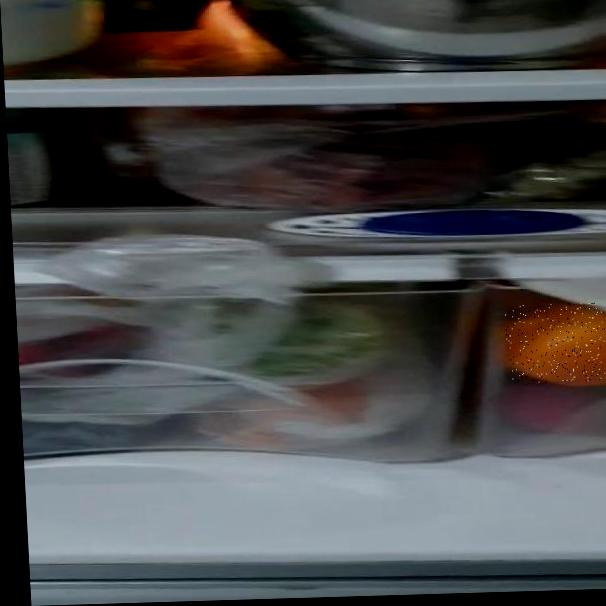orange: (505, 302, 606, 383)
